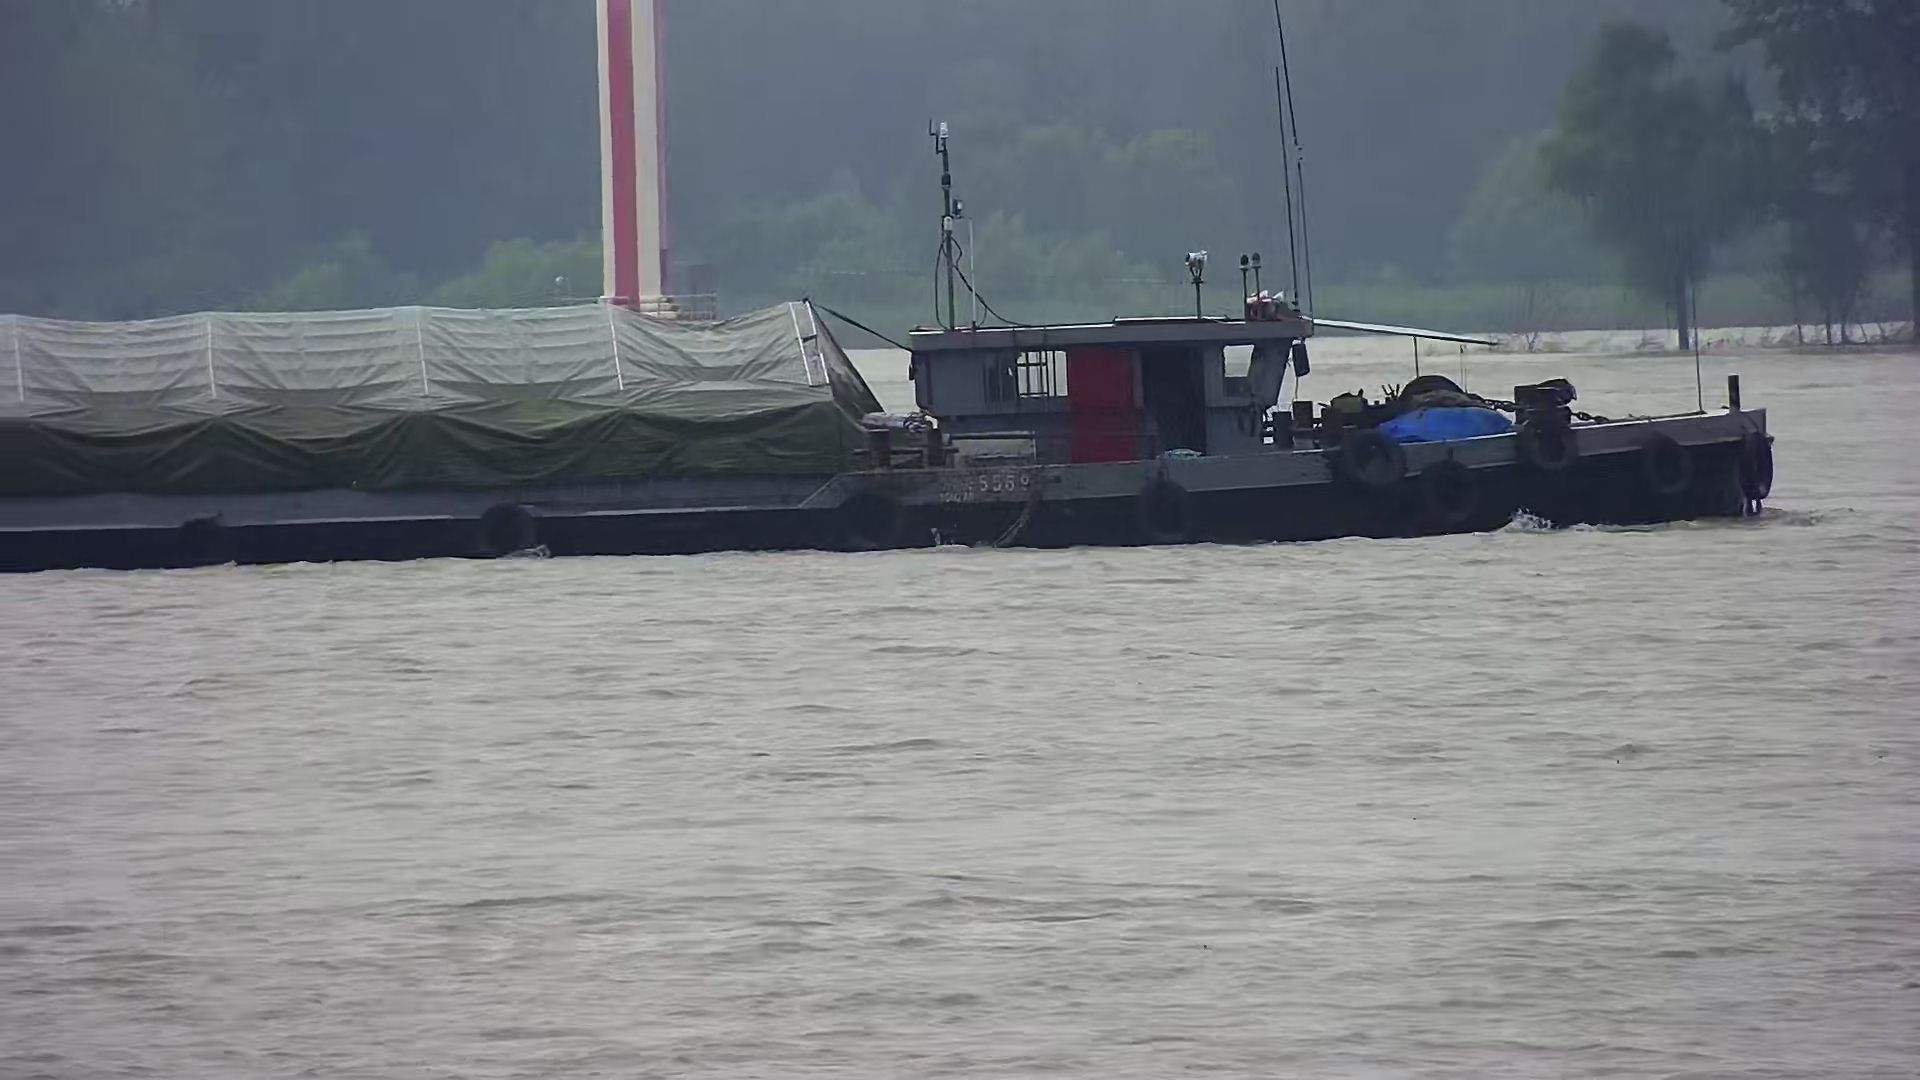grass: (1495, 309, 1665, 353)
platform: (541, 1, 727, 319)
ship: (1, 247, 1778, 572)
tree: (1540, 24, 1768, 355), (1721, 1, 1920, 349)
